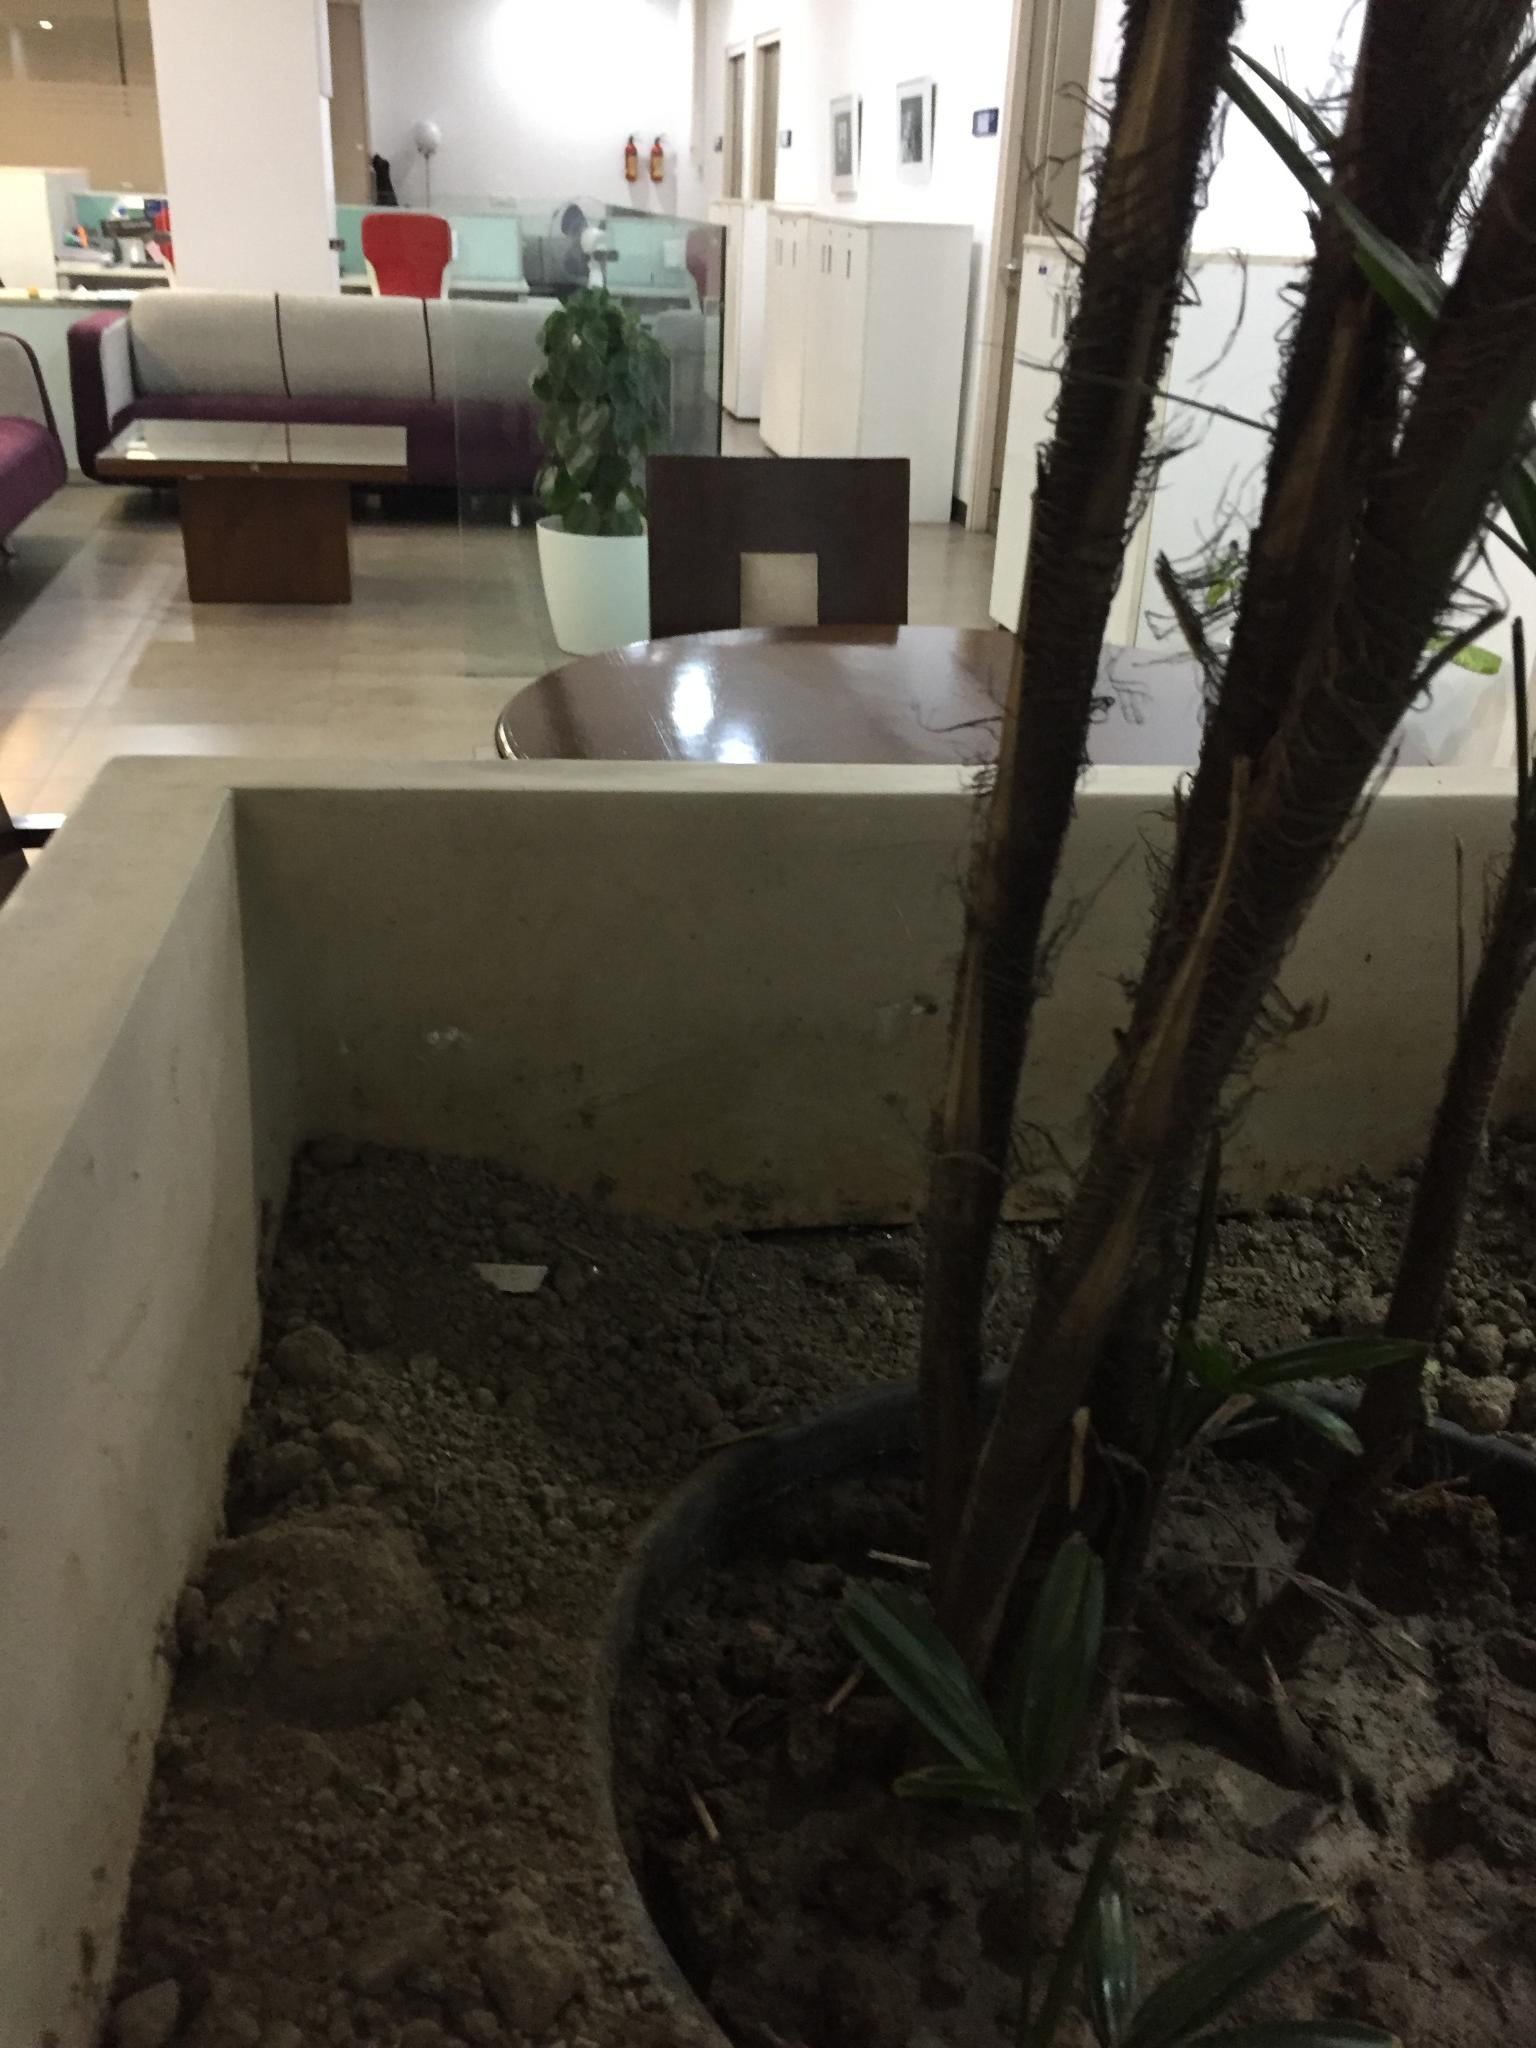chair: (0, 710, 345, 1113), (645, 455, 912, 640)
